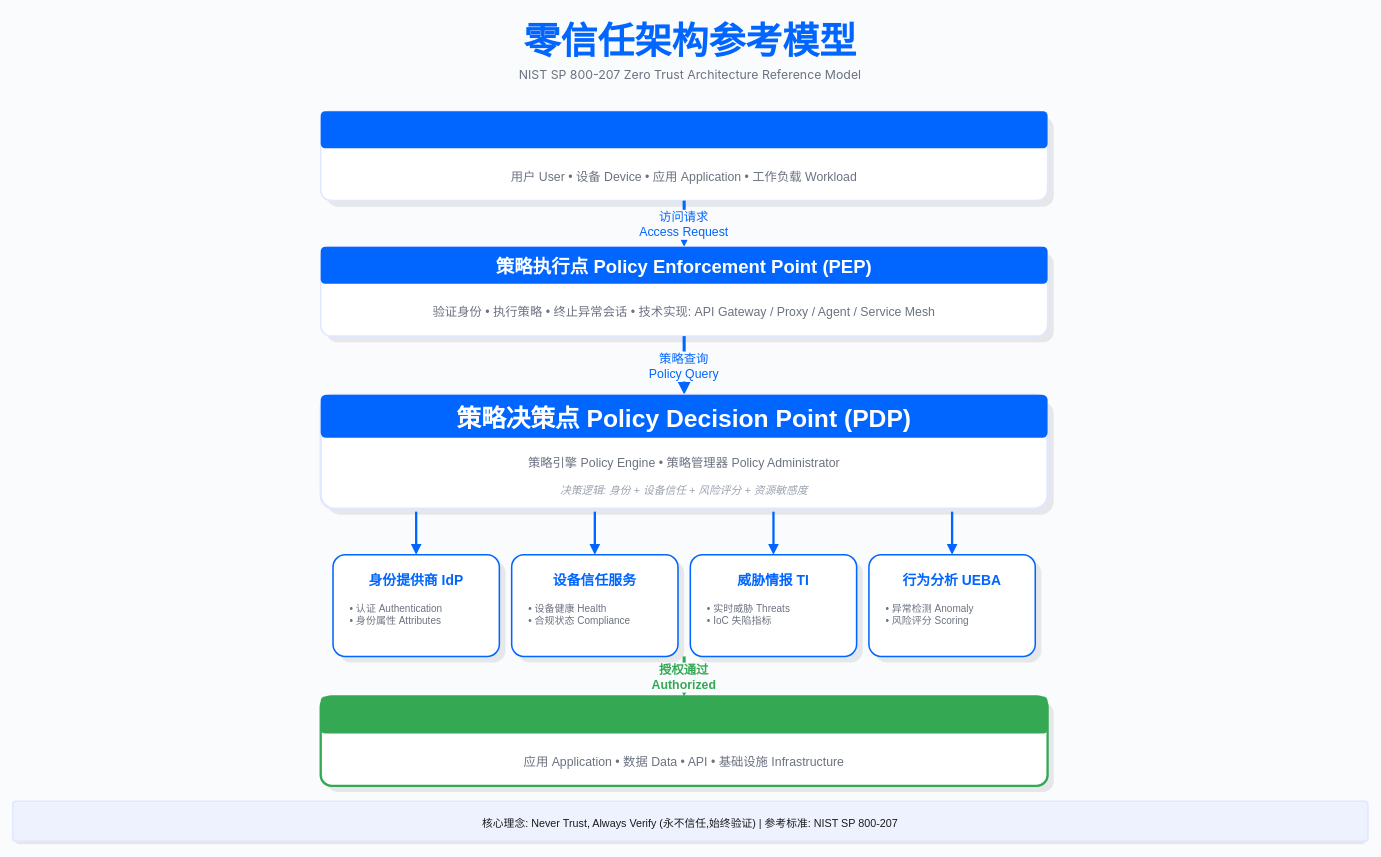
Image size: 1381x857. Some labels were removed from this diagram. The shapes that lost their labels are listed below. From the top down, each one's box as (x1, y1, x2, y2) in pixels, then its label:
(320, 110, 1048, 148): 主体 Subject
(320, 696, 1048, 733): 受保护资源 Protected Resource
